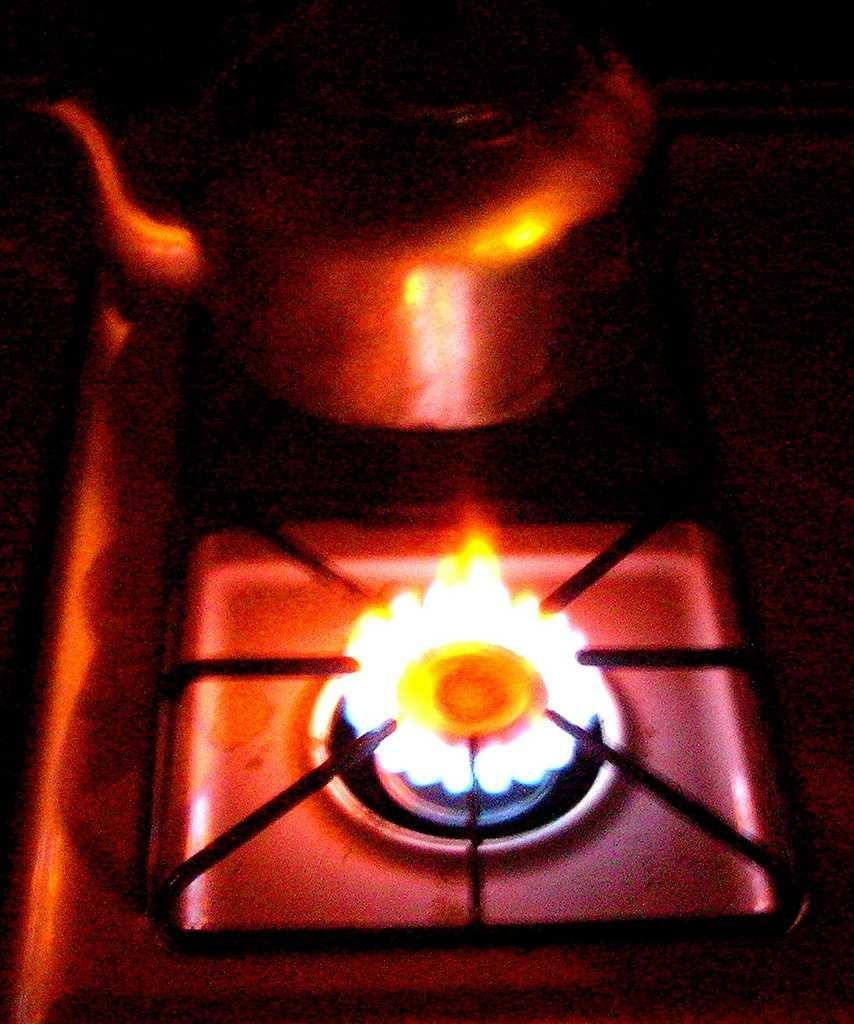fire: (353, 588, 558, 642), (392, 725, 478, 798), (498, 722, 570, 785), (345, 662, 400, 735)
